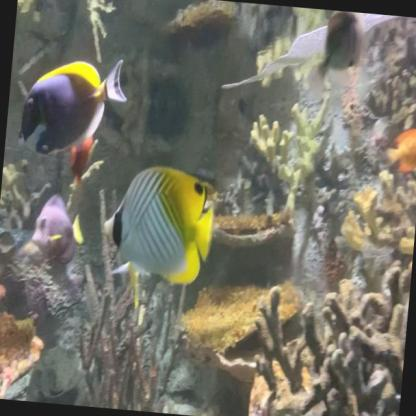fish: (99, 159, 218, 286), (18, 47, 130, 162), (28, 188, 90, 270), (381, 121, 415, 181)
